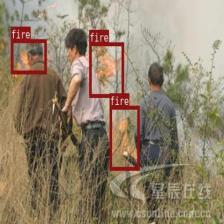fire: (109, 105, 139, 170), (89, 42, 123, 97), (11, 39, 46, 73)
